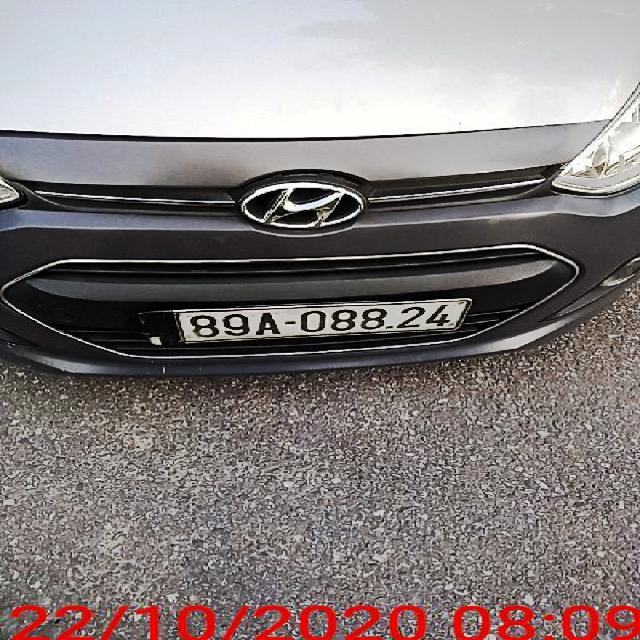license_plate: (180, 301, 467, 344)
